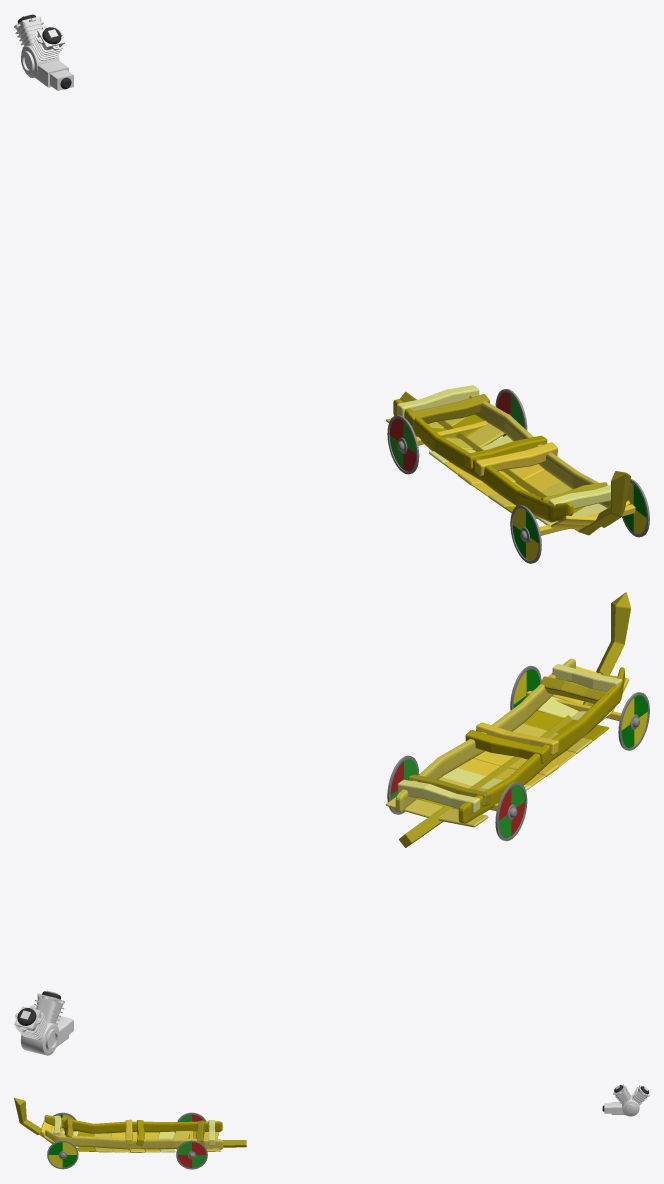
File: ЛОДКА.4 1.fbx
3 renders of one model, top to bottom at view 1: azimuth 30°, elevation 25°; view 2: azimuth 150°, elevation 25°; view 3: azimuth 270°, elevation 25°, orthographic. The views are drawn at different scales.
Parts seen in each view (by area): view 1: Cube.001, Cube, Plane.001, Circle.005, Circle.006, Circle.007, Cube.004, Cube.003, Cube.002, Circle.002, Cube.005, Cube.006; view 2: Cube.001, Cube, Plane.001, Circle.005, Circle.006, Cube.005, Cube.002, Circle.007, Cube.006, Cube.007, Plane.013, Cube.004 (+5 smaller); view 3: Cube, Cube.001, Circle.001, Circle.002, Plane.001, Circle.007, Circle.005, Cube.002, Circle.008, Circle.009, Cube.004, Cube.005 (+8 smaller).
Part boxes in pixels (x1,y1,x2,y2): Cube.001: (393, 399, 573, 522); Cube: (469, 394, 610, 508); Plane.001: (400, 391, 630, 535); Circle.005: (387, 415, 419, 474); Circle.006: (510, 505, 541, 563); Circle.007: (21, 45, 73, 90); Cube.004: (475, 442, 557, 476); Cube.003: (406, 394, 489, 427); Cube.002: (396, 385, 479, 416); Circle.002: (622, 479, 649, 537); Cube.005: (464, 435, 547, 468); Cube.006: (548, 485, 610, 509); Cube.001: (458, 667, 624, 823); Cube: (395, 658, 575, 812); Plane.001: (399, 592, 630, 847); Circle.005: (495, 782, 527, 841); Circle.006: (618, 692, 649, 750); Cube.005: (465, 730, 548, 763); Cube.002: (397, 779, 480, 813); Circle.007: (21, 1016, 73, 1055); Cube.006: (552, 664, 622, 691); Cube.007: (540, 676, 608, 703); Plane.013: (385, 797, 488, 827); Cube.004: (476, 722, 558, 754); Cube: (45, 1129, 223, 1149); Cube.001: (44, 1115, 222, 1133); Circle.001: (176, 1140, 207, 1169); Circle.002: (47, 1140, 78, 1169); Plane.001: (14, 1097, 246, 1147); Circle.007: (602, 1095, 639, 1116); Circle.005: (177, 1112, 206, 1121); Cube.002: (208, 1120, 215, 1145); Circle.008: (632, 1085, 649, 1104); Circle.009: (613, 1084, 630, 1103); Cube.004: (125, 1119, 132, 1145); Cube.005: (136, 1120, 144, 1145).
Bounding box in the file's own units: 172 × 185 × 1530.
